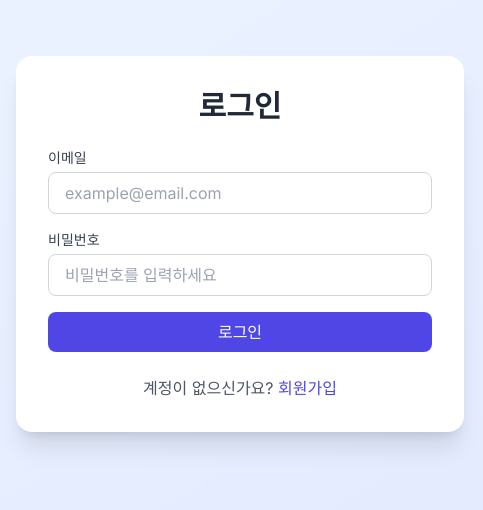
Test: LoginPage › Error handling › should display default error message when error is not an Error instance
This screenshot has width=483, height=510.
Type "test@example.com" into the field labelled "이메일" at (240, 193), box [48,172,432,214]
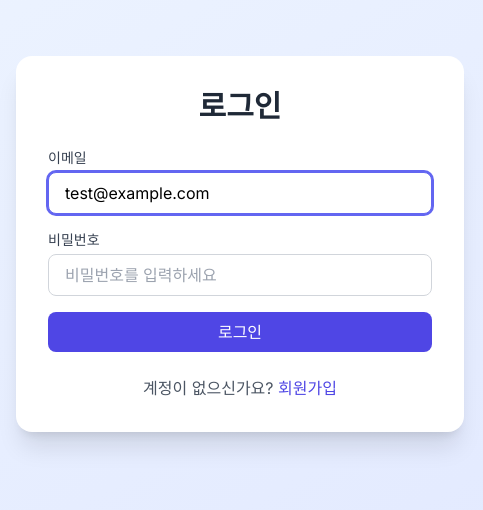
Type "password123" into the password field labelled "비밀번호" at (240, 275), box [48,254,432,296]
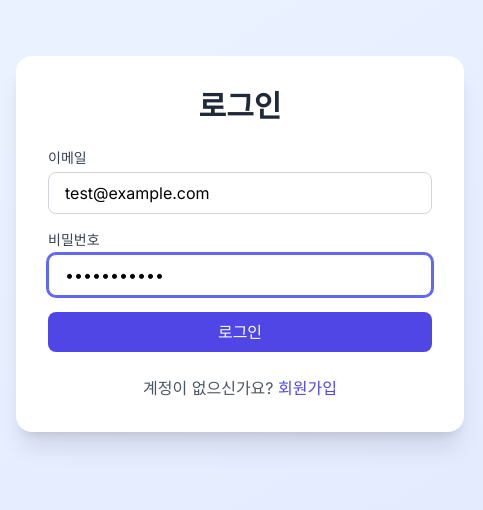
Click the button "로그인" at (240, 332), box [48,312,432,352]
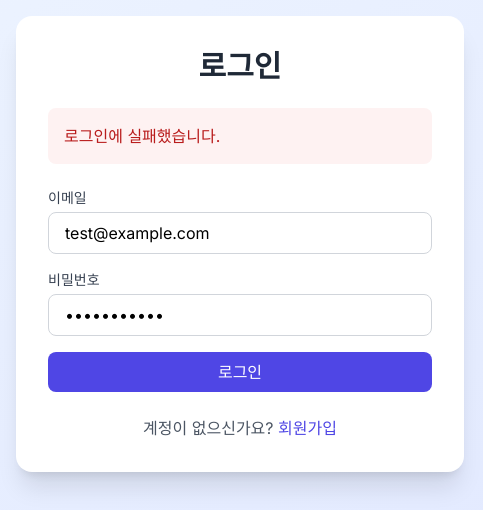
Expected: the text "로그인에 실패했습니다." is shown, [48,108,432,164]
